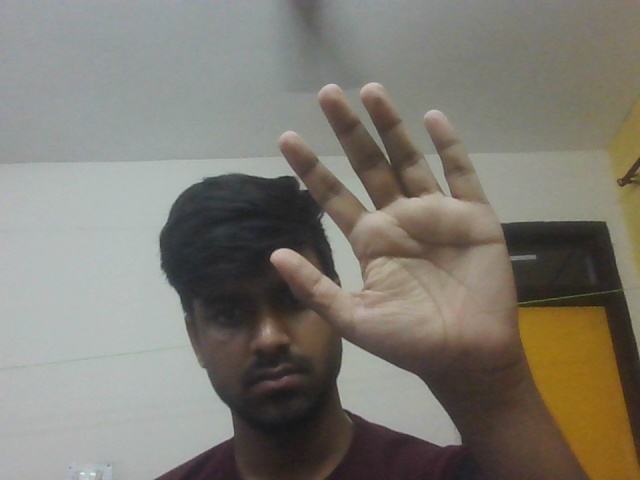hello: (263, 74, 593, 420)
